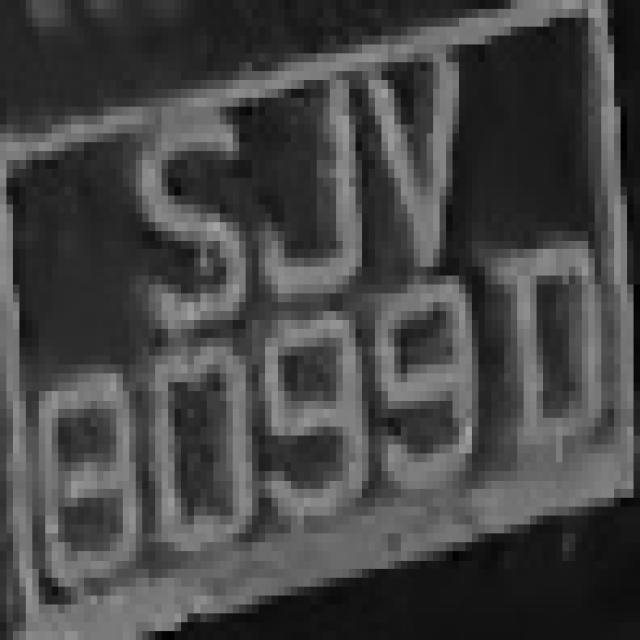0: (148, 311, 272, 551)
8: (32, 329, 142, 595)
9: (252, 258, 369, 516), (356, 276, 478, 498)
D: (504, 214, 627, 436)
J: (232, 45, 368, 311)
S: (116, 80, 252, 329)
V: (356, 62, 492, 276)
